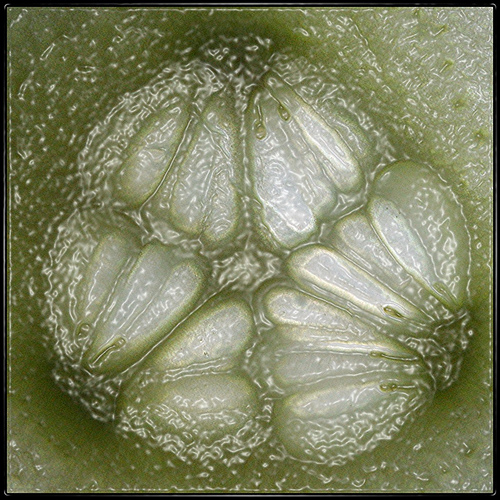cucumber: (7, 7, 492, 491)
